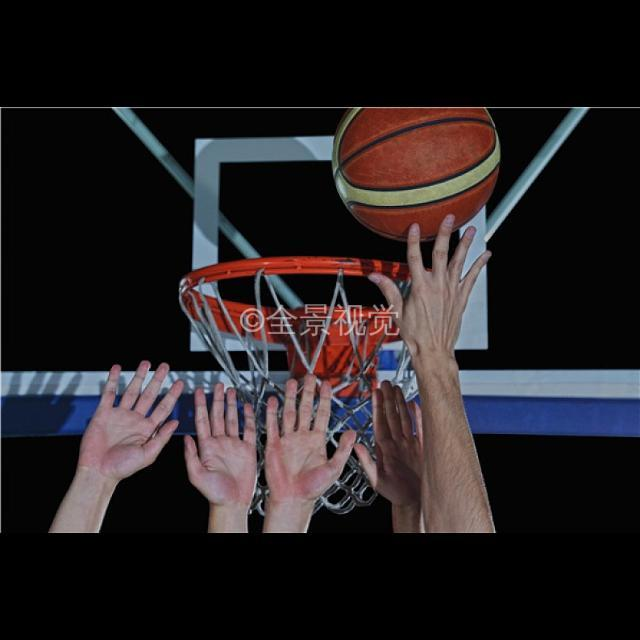basketball: (334, 107, 498, 239)
rim: (179, 254, 431, 518)
